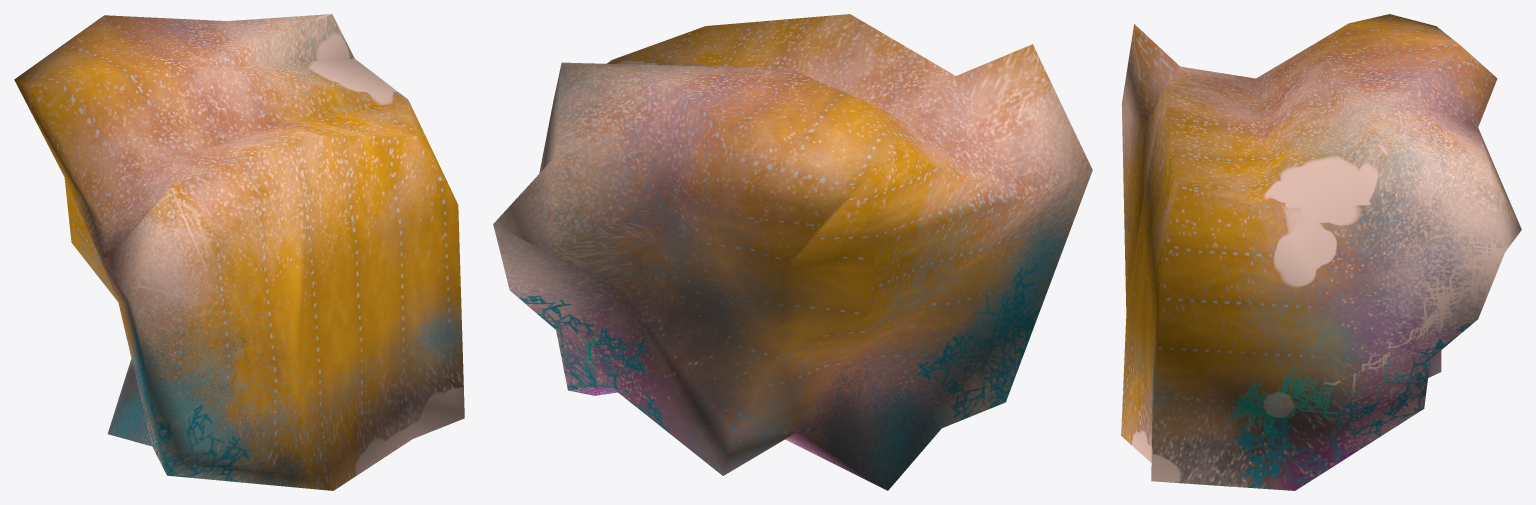
The model's file is fragment.glb.
3 views of the same model, side by side, from view 1: azimuth 30°, elevation 25°; view 2: azimuth 150°, elevation 25°; view 3: azimuth 270°, elevation 25° (orthographic). The views are drawn at different scales.
Visible parts, largest first — view 1: Cube_Cube.001; view 2: Cube_Cube.001; view 3: Cube_Cube.001.
Boxes of the visible parts, x1,y1,x2,y2 form: Cube_Cube.001: (14,14,464,490); Cube_Cube.001: (493,14,1092,490); Cube_Cube.001: (1121,14,1521,490).
Size of the model in its own units: 2.02 by 2.02 by 2.
Materials: 1 (1 with a texture image).
